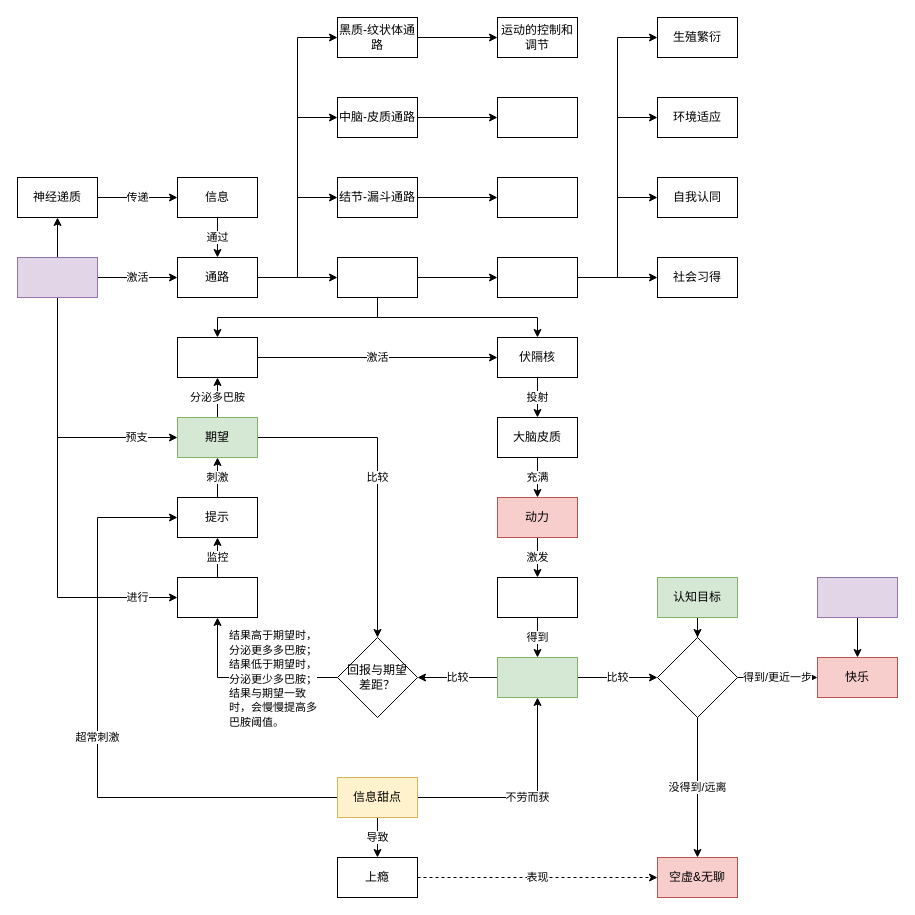
The diagram is 915 pixels wide and 915 high, and some of its shapes have lost their labels. Here are the shapes that lost their labels. From the top down, the centre of each, then its label:
At pixel 537 117: "决策功能".
At pixel 537 197: "生殖".
At pixel 57 277: "多巴胺".
At pixel 377 277: "中脑-边缘通路".
At pixel 537 277: "奖赏回路".
At pixel 217 357: "腹侧被盖区".
At pixel 217 597: "分泌& 标记结果".
At pixel 537 597: "行动".
At pixel 857 597: "享乐热点".
At pixel 537 677: "回报".
At pixel 697 677: "回报与认知目标的差距？".
